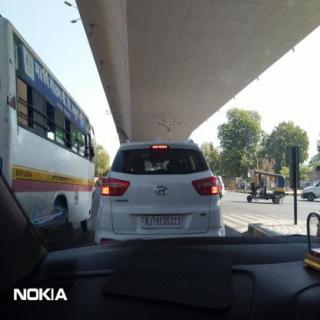Normal_vehicle: (95, 138, 225, 243)
